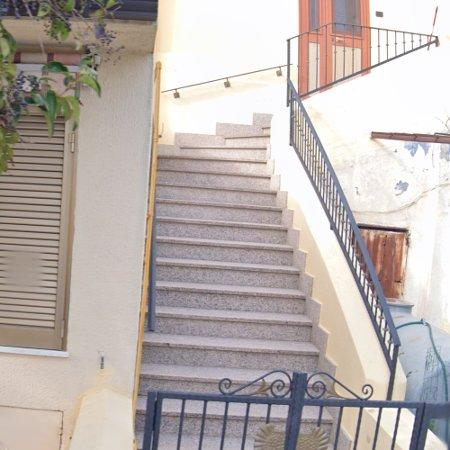stairs: (139, 115, 320, 414)
